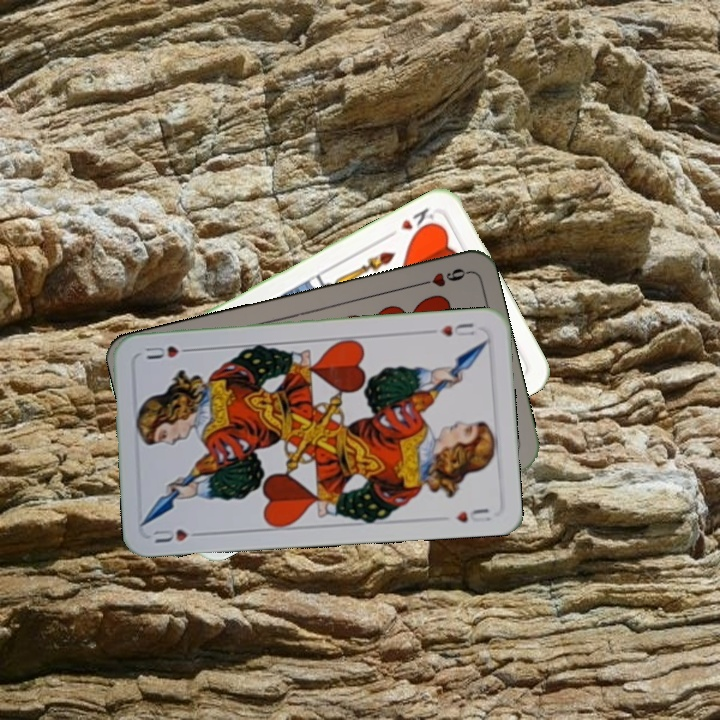H9: (412, 264, 471, 290)
HK: (396, 203, 439, 239)
HU: (149, 525, 207, 546), (436, 319, 481, 339)
